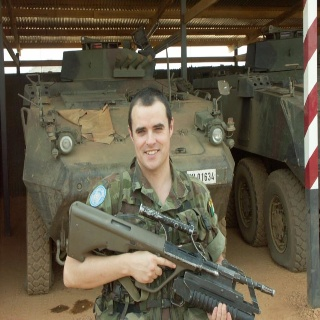rifle: (65, 198, 276, 320)
